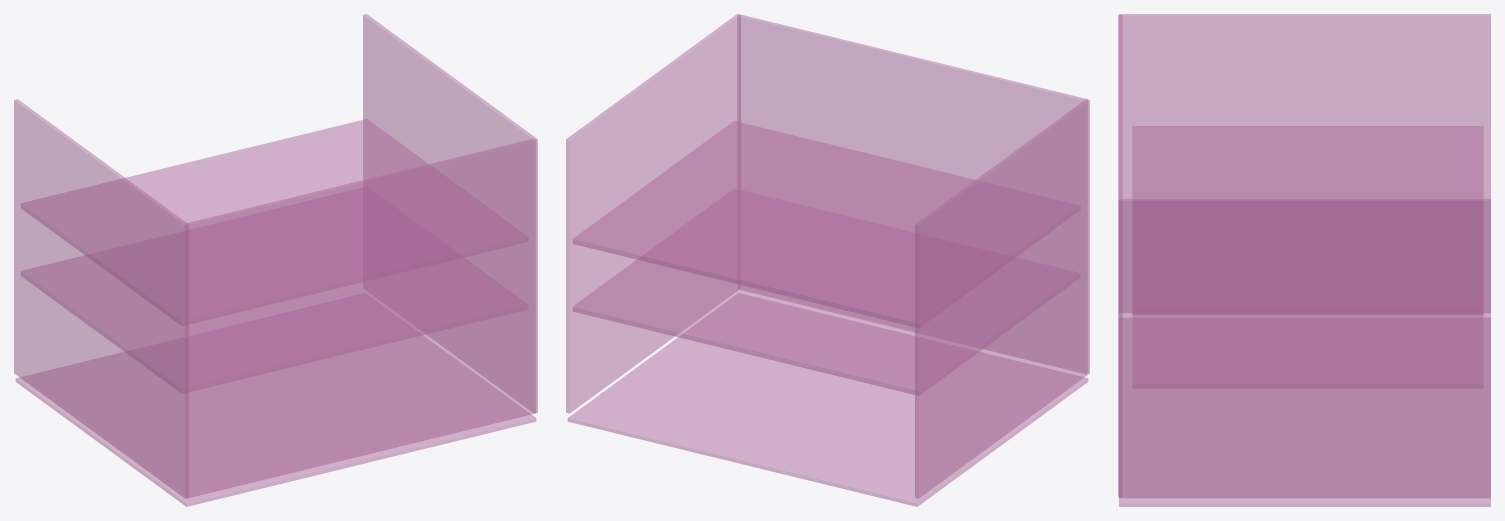
The model's file is f_metal_crate_o_string_warped.glb.
The picture shows the model from 3 angles, left to right: view 1: azimuth 30°, elevation 25°; view 2: azimuth 150°, elevation 25°; view 3: azimuth 270°, elevation 25°; orthographic projection. The views are drawn at different scales.
Parts seen in each view (by area): view 1: block_magenta-back-plane, block_thin-magenta-shelf-plane (×2), block_magenta-light-plane (×2), block_magenta-floor-plane; view 2: block_thin-magenta-shelf-plane (×2), block_magenta-light-plane (×2), block_magenta-back-plane, block_magenta-floor-plane; view 3: block_magenta-light-plane (×2), block_thin-magenta-shelf-plane (×2), block_magenta-floor-plane, block_magenta-back-plane.
Part boxes in pixels (box(x1,y1,x2,y2)): block_magenta-back-plane: box(185, 139, 536, 498); block_thin-magenta-shelf-plane (×2): box(21, 119, 527, 393); block_magenta-light-plane (×2): box(14, 14, 537, 498); block_magenta-floor-plane: box(15, 335, 536, 506); block_thin-magenta-shelf-plane (×2): box(573, 121, 1080, 395); block_magenta-light-plane (×2): box(566, 14, 1089, 498); block_magenta-back-plane: box(737, 14, 1087, 373); block_magenta-floor-plane: box(567, 293, 1088, 506); block_magenta-light-plane (×2): box(1119, 14, 1490, 498); block_thin-magenta-shelf-plane (×2): box(1132, 126, 1483, 388); block_magenta-floor-plane: box(1119, 318, 1490, 506); block_magenta-back-plane: box(1118, 15, 1122, 497).
Size of the model in its own units: 0.857 by 0.655 by 0.7215.
Materials: 1 (1 with a texture image).
